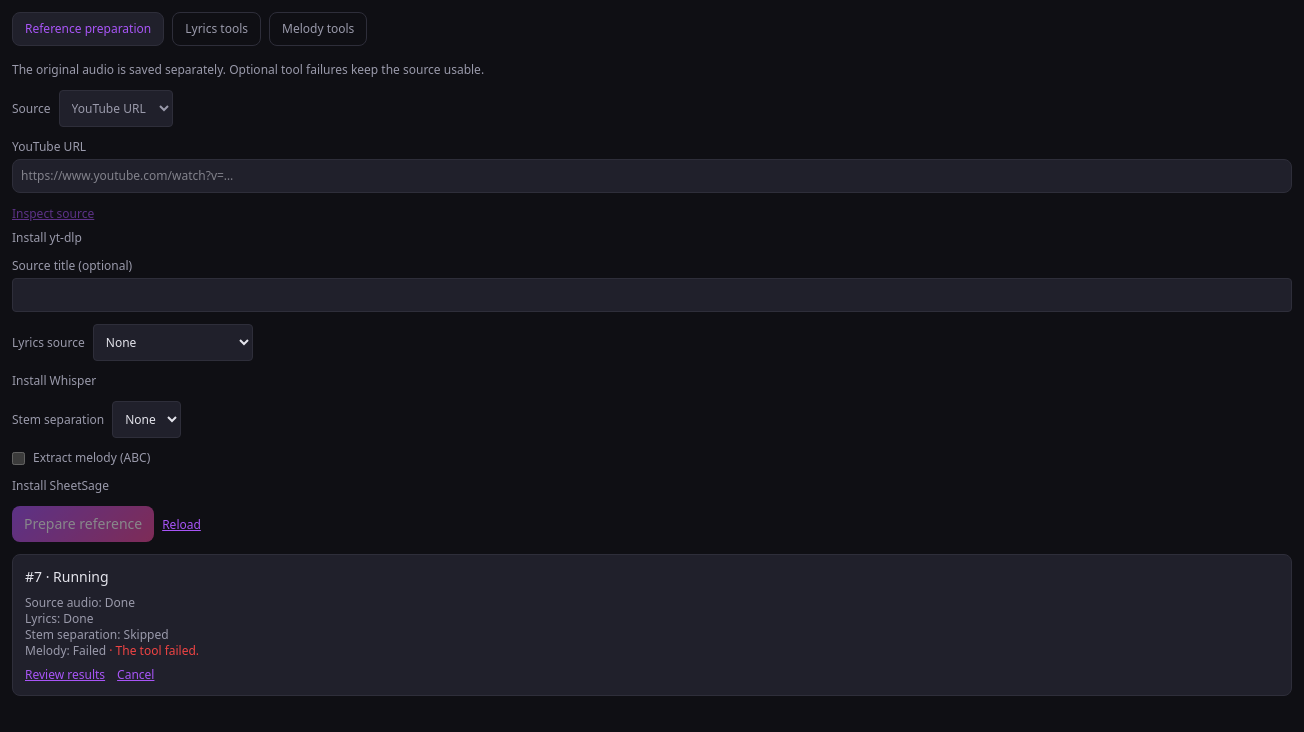
Test: cancels the backend job and ignores a late list response
Click the button "Cancel": (136, 675) x1=117 y1=667 x2=154 y2=683
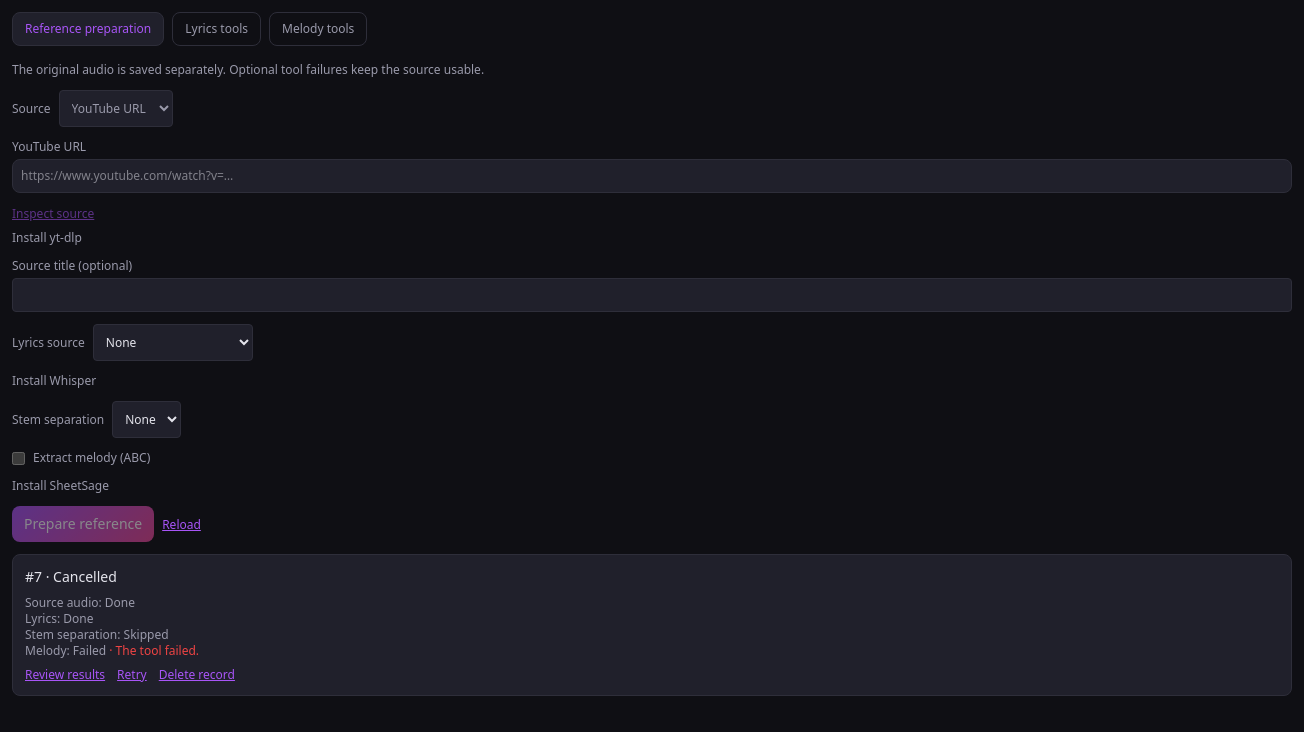
Expected: the text "Cancelled" is shown, x1=25 y1=567 x2=117 y2=586
